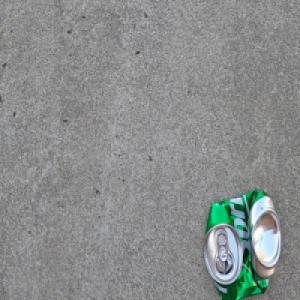SodaCan: (202, 184, 281, 299)
